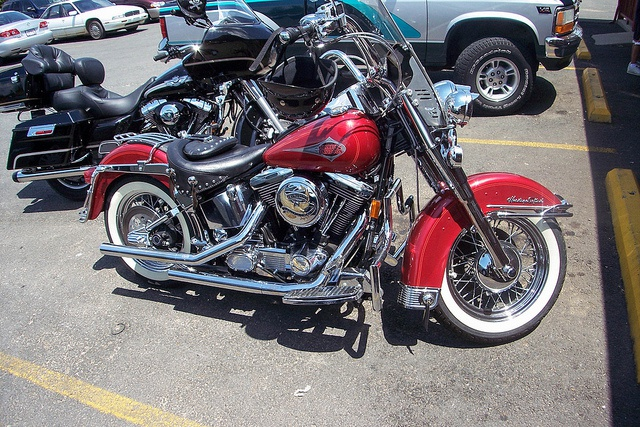non-vehicle: (80, 0, 569, 342), (7, 0, 280, 198)
